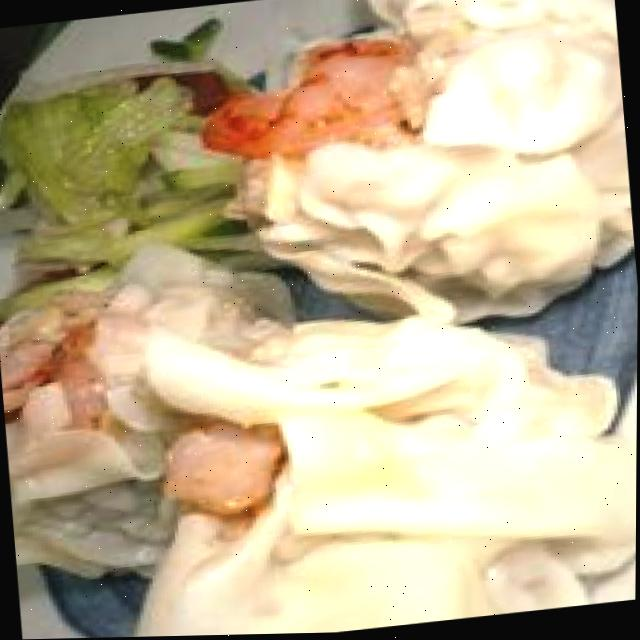带馅早点: (182, 0, 640, 360)
